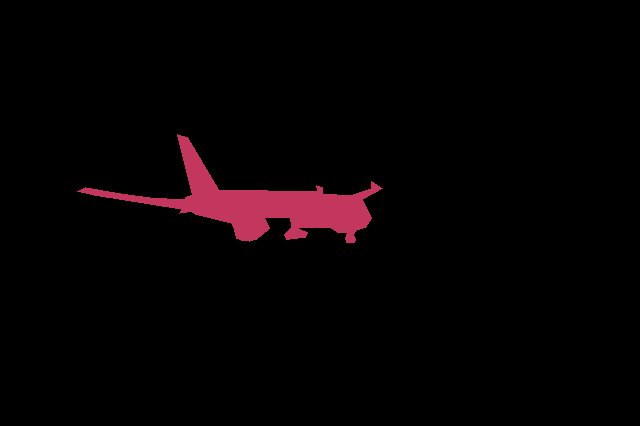Airplane: (77, 134, 383, 243)
